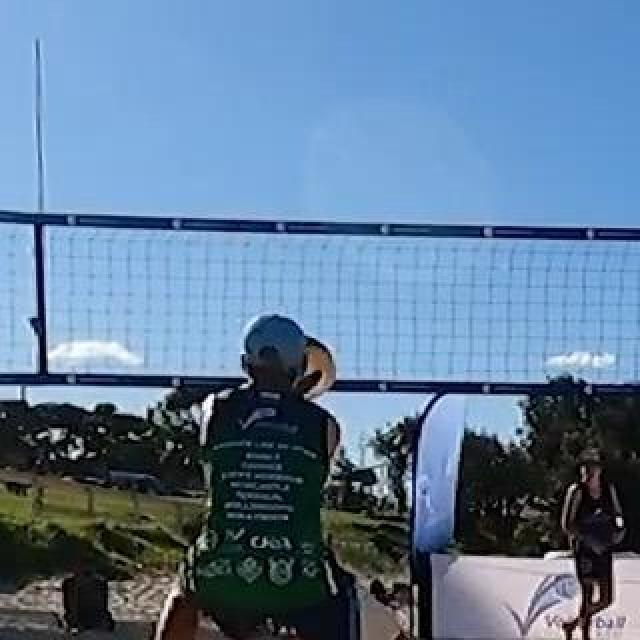volleyball: (267, 333, 335, 401)
